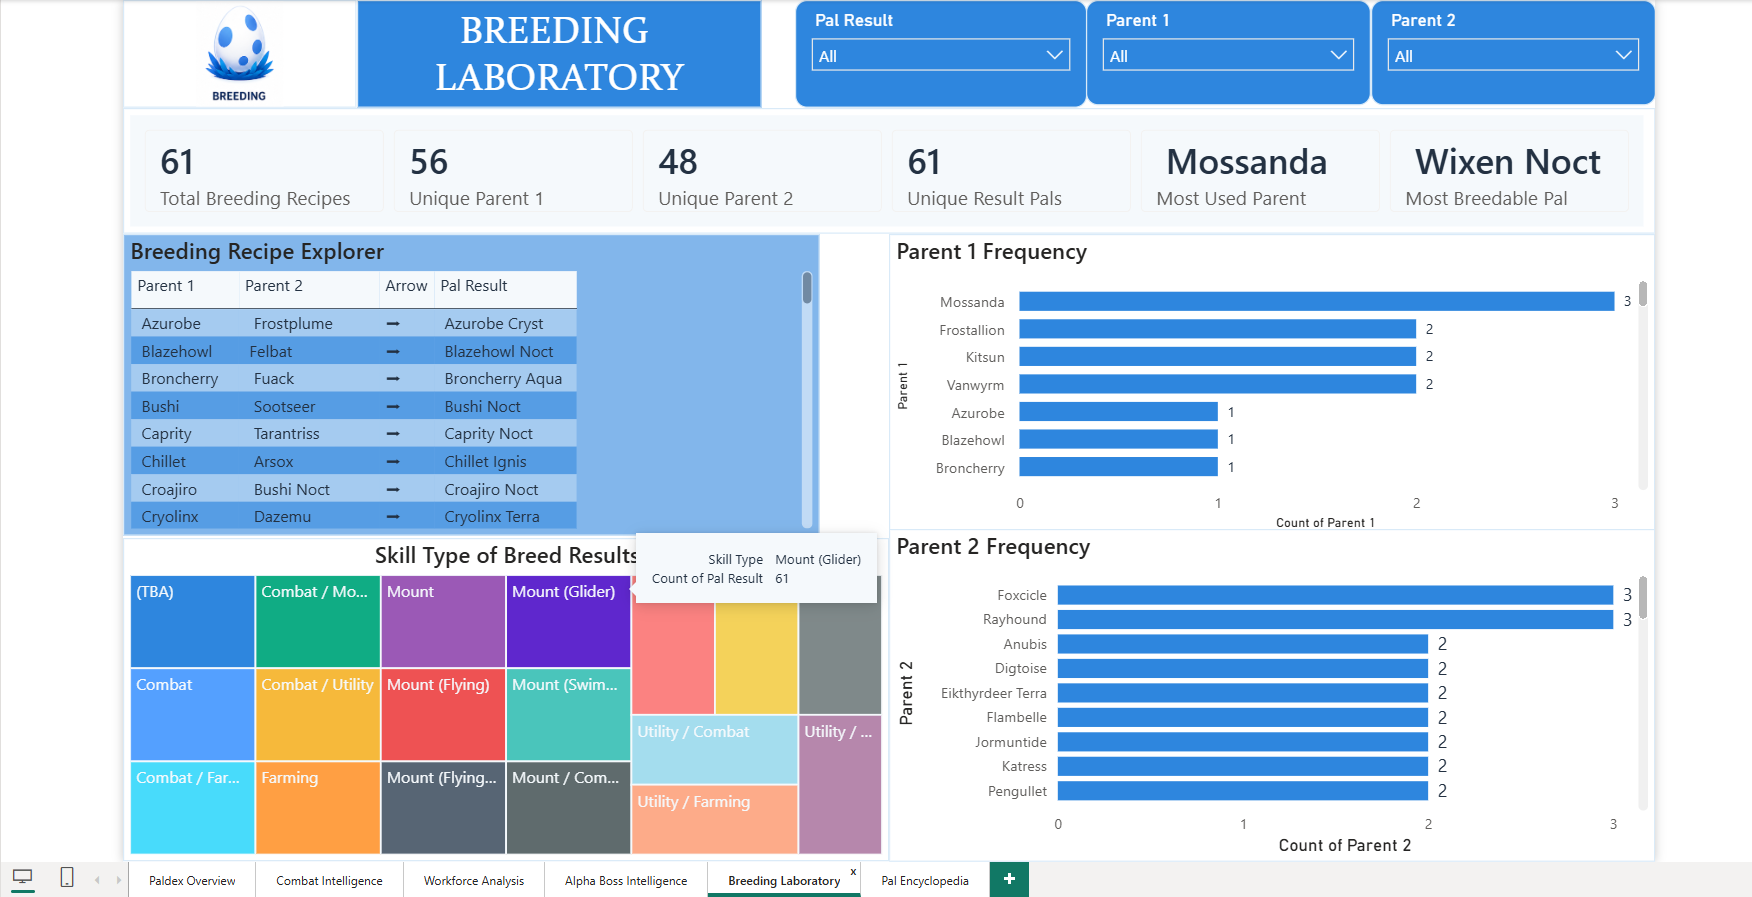

This screenshot's page, from the dashboard's own definition file:
{"tool":"powerbi","page":{"name":"Breeding Laboratory","canvas":[1280,720],"ordinal":4},"visuals":[{"type":"cardVisual","fields":{"Data":["Breeding.Total Breeding Recipes","Breeding.Unique Parent 1","Breeding.Unique Parent 2","Breeding.Unique Result Pals","Breeding.Most Used Parent","Breeding.Most Breedable Pal"]},"box":[0,90.5,1280,105],"z":0},{"type":"tableEx","title":"Breeding Recipe Explorer","fields":{"Values":["Breeding.Parent 1","Breeding.Parent 2","Breeding.Arrow","Breeding.Pal Result"]},"box":[0,195.5,581.6,252.5],"z":1000},{"type":"slicer","fields":{"Values":["Breeding.Pal Result"]},"box":[560.9,0,243.6,90.4],"z":2000},{"type":"slicer","fields":{"Values":["Breeding.Parent 1"]},"box":[804.5,0,237.7,88.4],"z":3000},{"type":"slicer","fields":{"Values":["Breeding.Parent 2"]},"box":[1042.3,0,237.7,88.4],"z":4000},{"type":"clusteredBarChart","title":"Parent 1 Frequency","fields":{"Category":["Breeding.Parent 1"],"Y":["CountNonNull(Breeding.Parent 1)"]},"box":[640,195.5,640,252.9],"z":5000},{"type":"clusteredBarChart","title":"Parent 2 Frequency","fields":{"Category":["Breeding.Parent 2"],"Y":["CountNonNull(Breeding.Parent 2)"]},"box":[640,441.6,640,278.2],"z":6000},{"type":"treemap","title":"Skill Type of Breed Results","fields":{"Group":["Partner Skills.Skill Type"],"Values":["CountNonNull(Breeding.Pal Result)"]},"box":[0,449.4,640,270.4],"z":7000},{"type":"textbox","box":[195.1,0,337.8,90.4],"z":7001},{"type":"image","box":[0,0,195.5,90.4],"z":7002}]}

Visuals, with their boxes on the page's 1280x720 design canvas (x1, y1, x2, y2). These are canvas units, not pixel positions in the 1752x897 screenshot, which may show the page scaled, cropped or inside an application window:
cardVisual - Breeding.Total Breeding Recipes x Breeding.Unique Parent 1: 0/90/1280/196
"Breeding Recipe Explorer" tableEx: 0/196/582/448
slicer - Breeding.Pal Result: 561/0/804/90
slicer - Breeding.Parent 1: 804/0/1042/88
slicer - Breeding.Parent 2: 1042/0/1280/88
"Parent 1 Frequency" clusteredBarChart: 640/196/1280/448
"Parent 2 Frequency" clusteredBarChart: 640/442/1280/720
"Skill Type of Breed Results" treemap: 0/449/640/720
textbox: 195/0/533/90
image: 0/0/196/90
